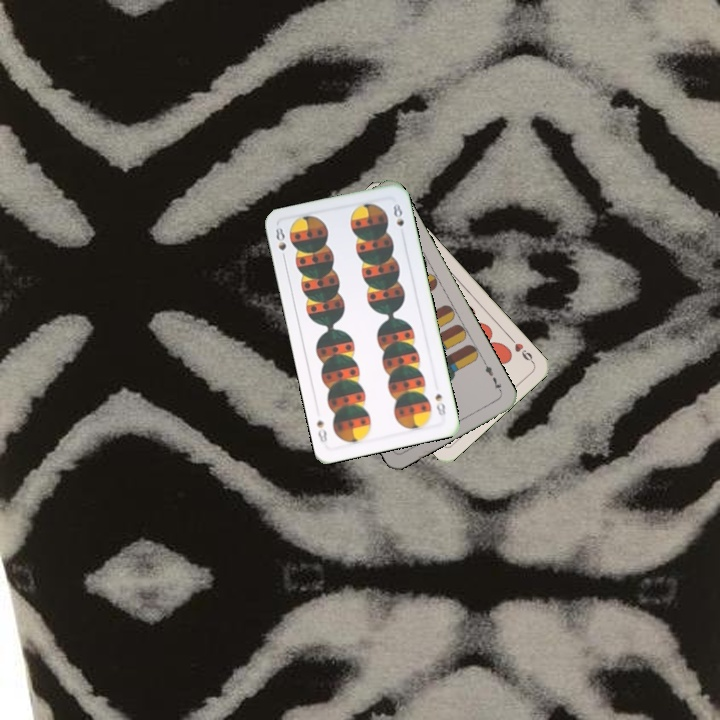E7: (480, 358, 505, 395)
H9: (505, 333, 536, 366)
S8: (271, 223, 289, 264), (431, 389, 448, 418)
